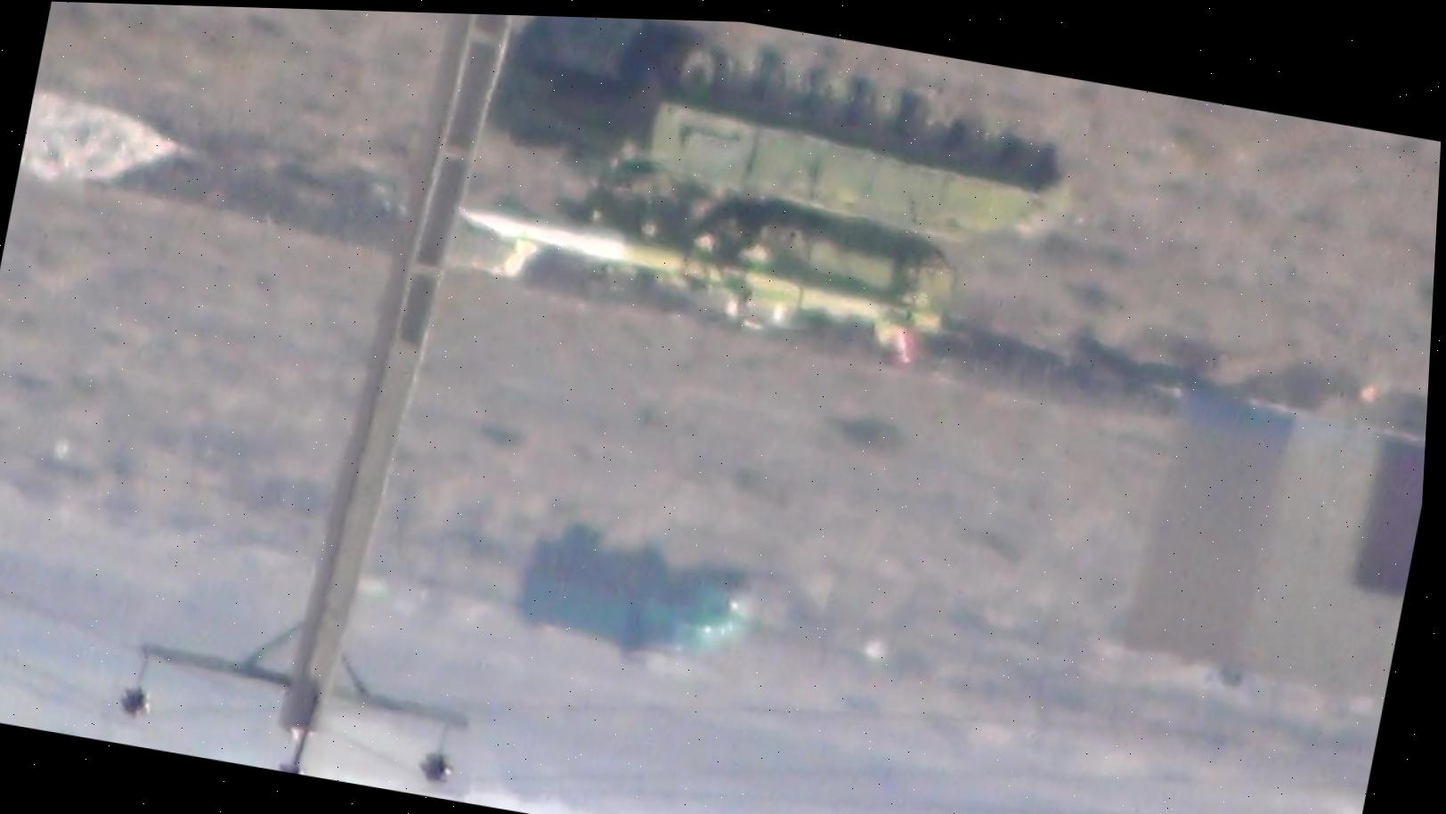armored_car: (436, 13, 1093, 398)
